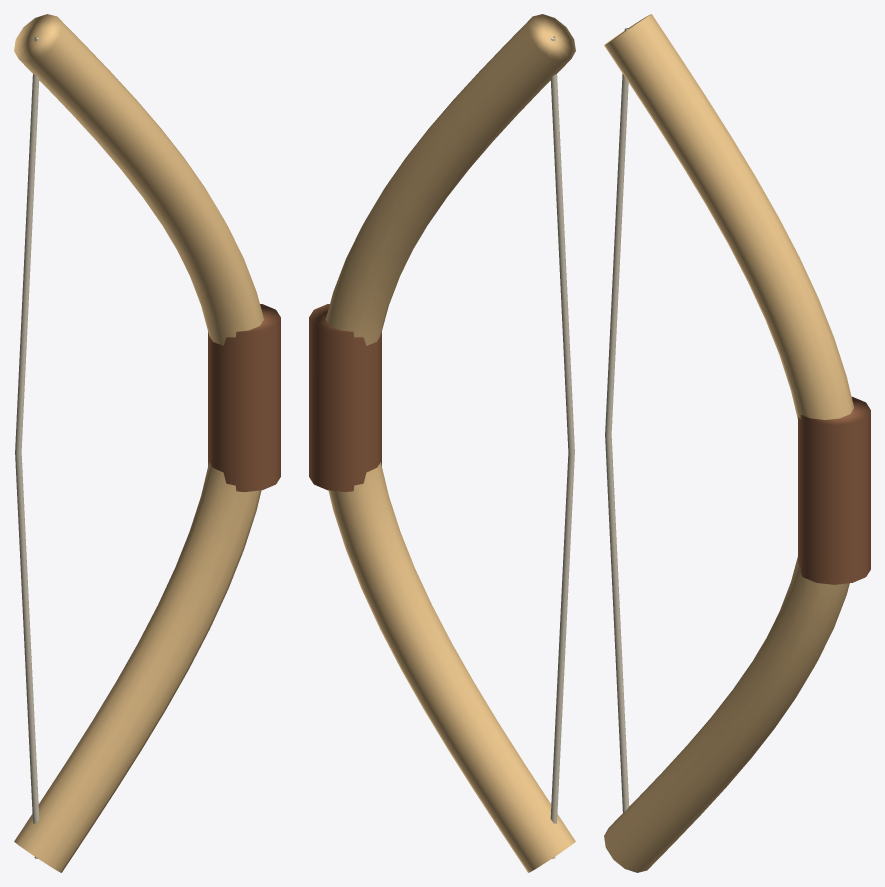
Rendered from BOW.glb.
3 views of the same model, side by side, from view 1: azimuth 30°, elevation 25°; view 2: azimuth 150°, elevation 25°; view 3: azimuth 330°, elevation 25° (orthographic).
Parts seen in each view (by area): view 1: BOW; view 2: BOW; view 3: BOW.
Part boxes in pixels (x1,y1,x2,y2): BOW: [14, 14, 280, 872]; BOW: [309, 14, 575, 872]; BOW: [604, 14, 870, 872].
Bounding box in the file's own units: 0.24 × 0.7493 × 0.058.
Materials: 3 (2 with a texture image).
